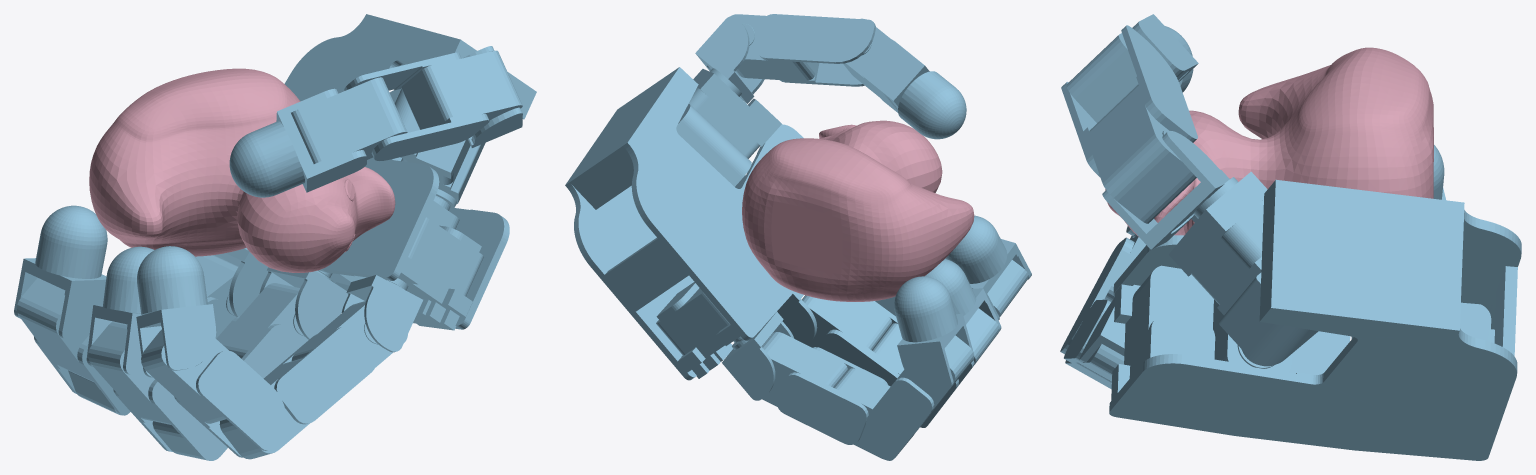
The picture shows the model from 3 angles, left to right: view 1: azimuth 30°, elevation 25°; view 2: azimuth 150°, elevation 25°; view 3: azimuth 270°, elevation 25°; orthographic projection. The views are drawn at different scales.
Parts seen in each view (by area): view 1: world; view 2: world; view 3: world.
Boxes of the visible parts, x1,y1,x2,y2 form: world: (14,14,536,460); world: (565,14,1031,460); world: (1060,14,1521,460).
Size of the model in its own units: 0.1871 by 0.1552 by 0.1348.
